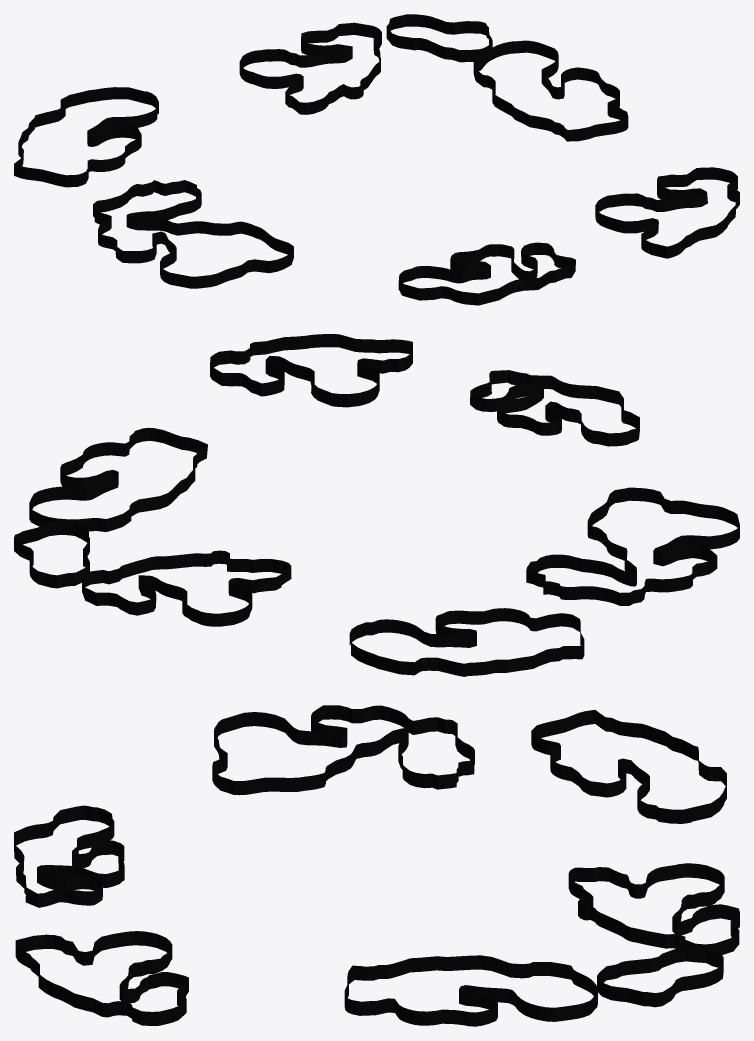
Rendered from mountain_outliner-compressed.glb.
3 renders of one model, top to bottom at view 1: azimuth 30°, elevation 25°; view 2: azimuth 150°, elevation 25°; view 3: azimuth 270°, elevation 25°, orthographic. The views are drawn at different scales.
Visible parts, largest first — view 1: mountain_outliner; view 2: mountain_outliner; view 3: mountain_outliner.
Boxes of the visible parts, <box> form: mountain_outliner: <box>14,14,739,305</box>; mountain_outliner: <box>14,334,739,676</box>; mountain_outliner: <box>14,705,739,1026</box>.
Size of the model in its own units: 99.49 by 2.14 by 99.37.
Materials: 1 (1 with a texture image).
